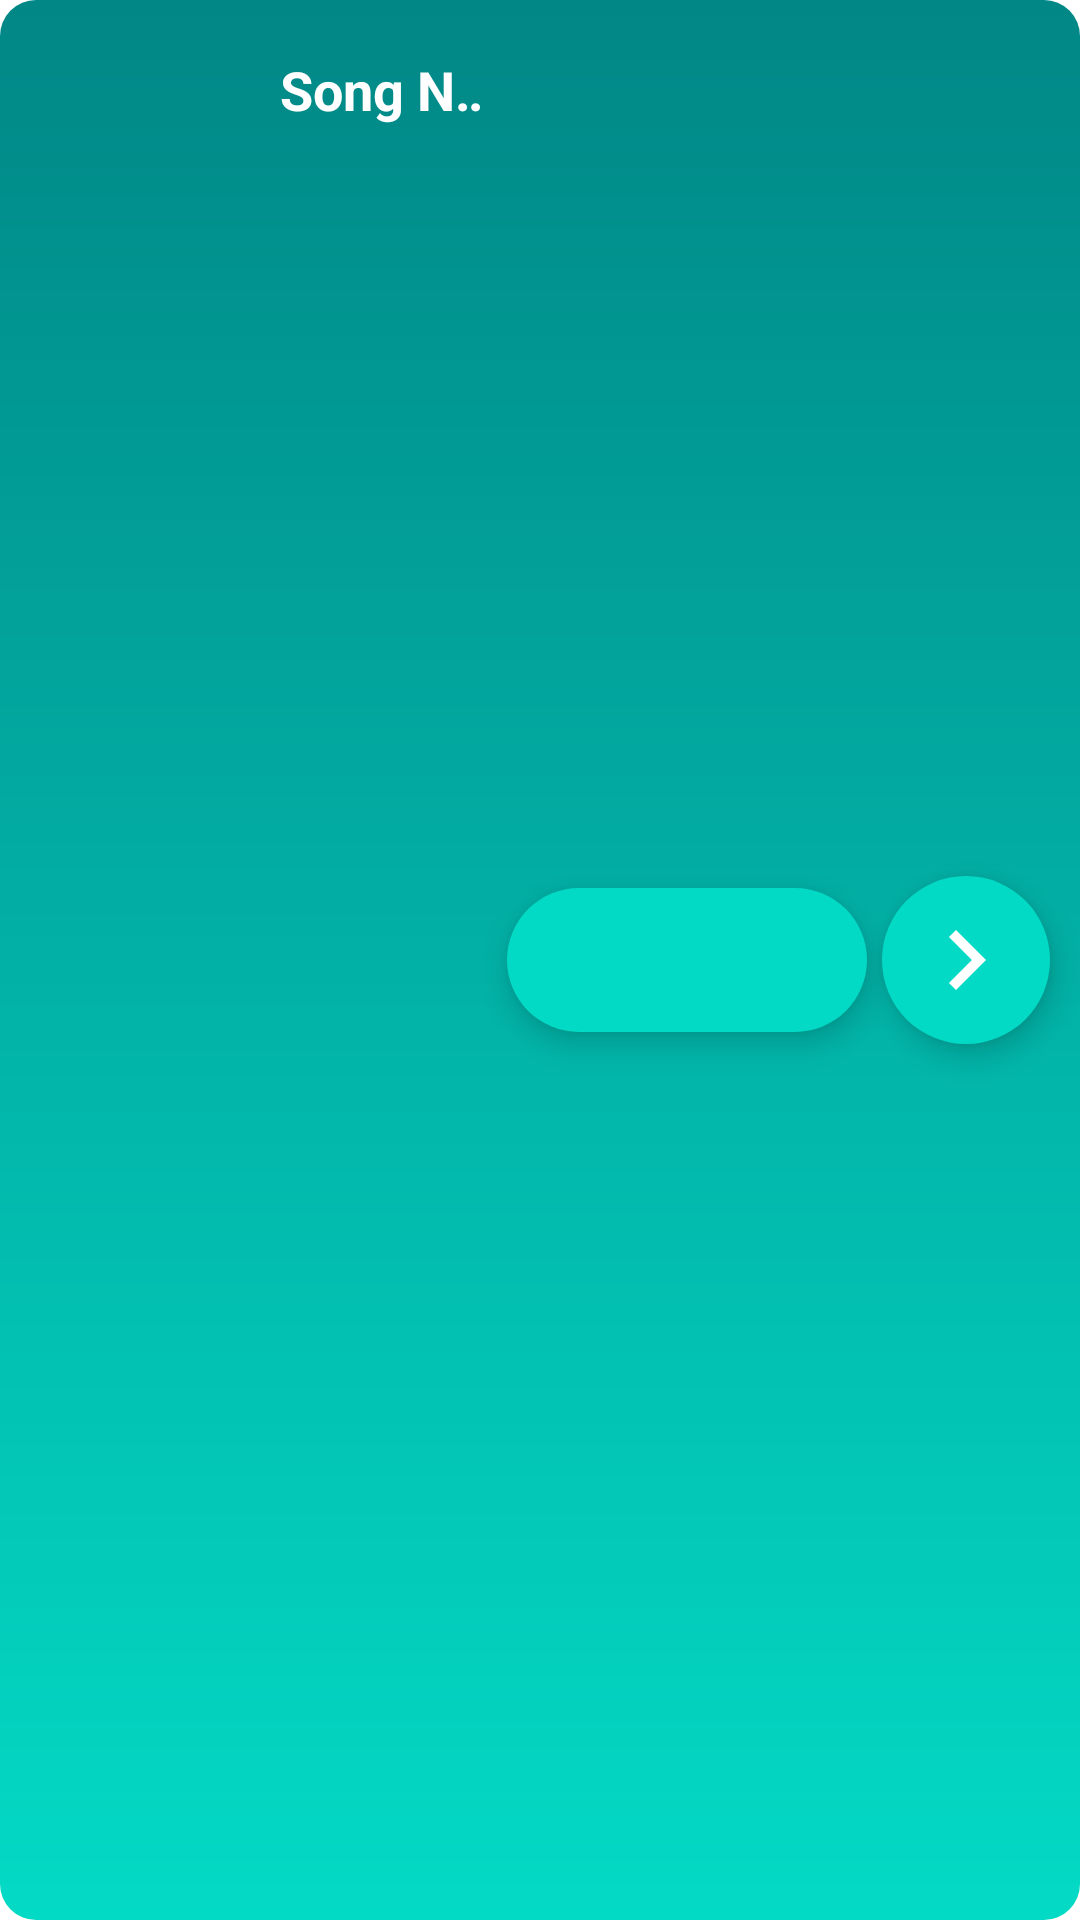

Icons on this 1080×1920 Android screen, each with its box as (x1, y1, x2, y2):
navigate next: (882, 876, 1050, 1044)
